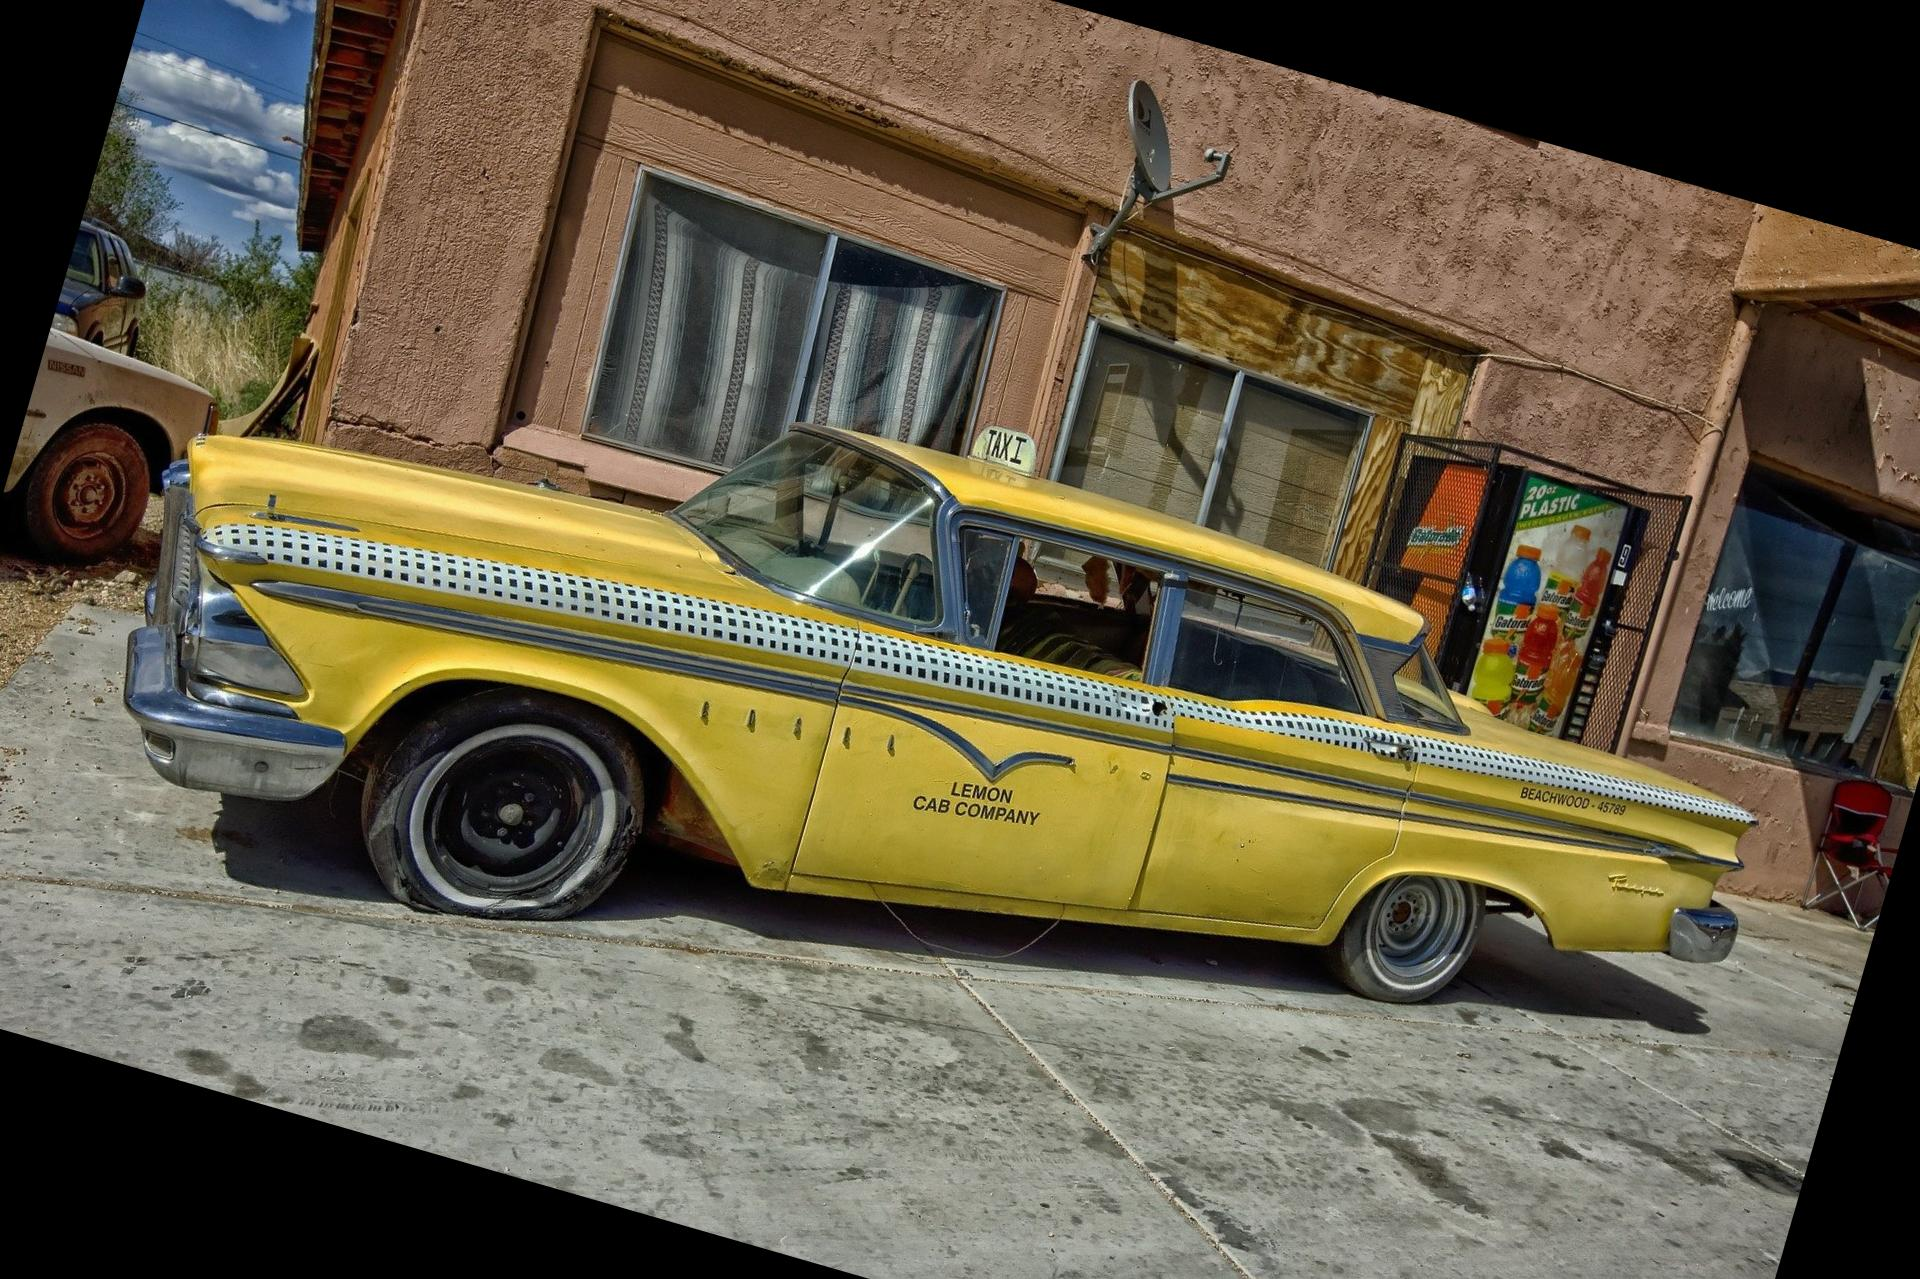taxi: (123, 397, 1762, 1035)
